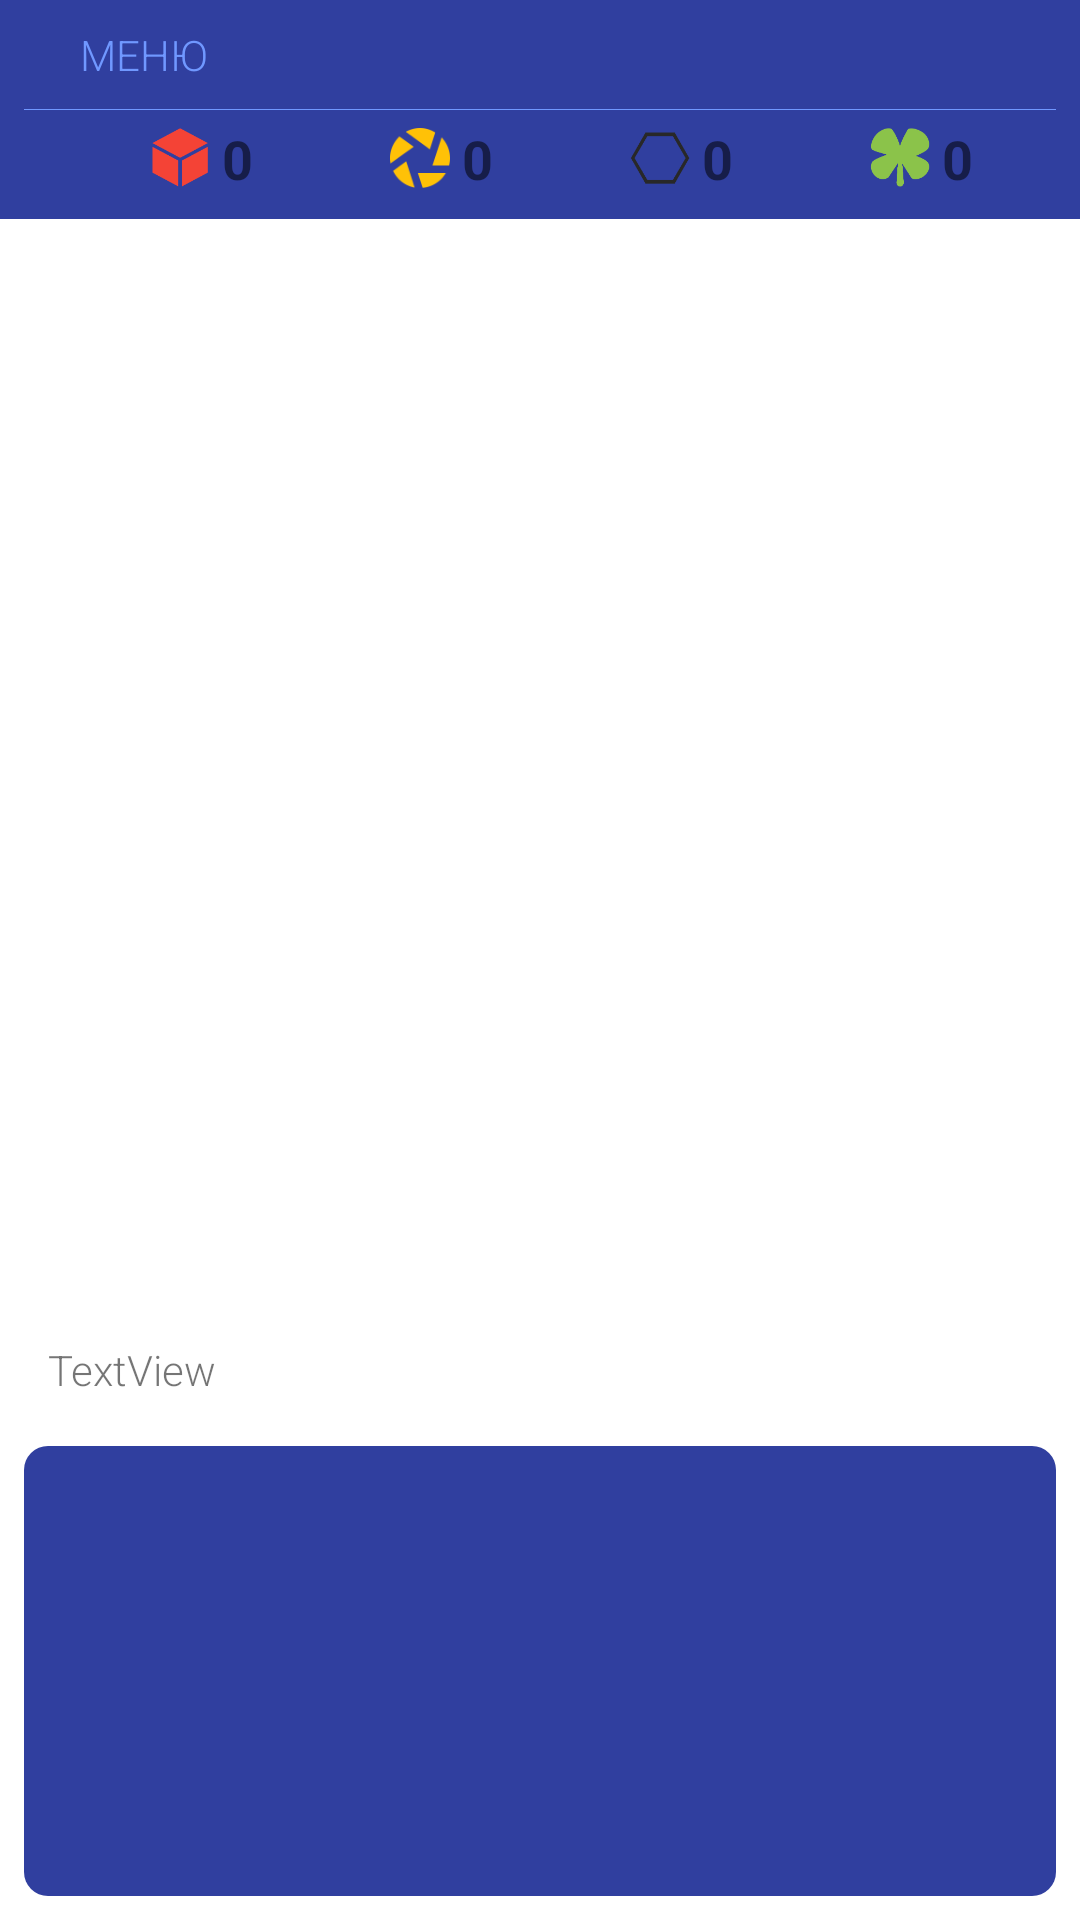

Icon click points for this 1080x1920 phone screenshot, format (x=x, y=y):
diaphragm: (x=420, y=158)
fortune: (x=900, y=157)
